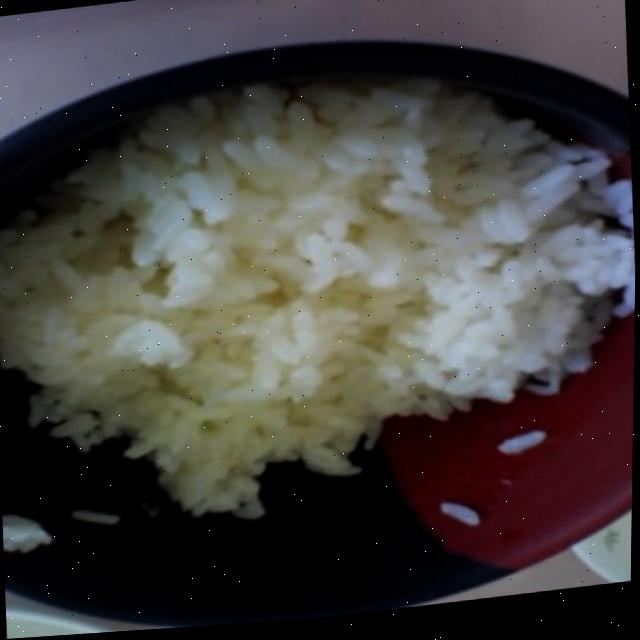米饭主食: (0, 10, 639, 640)
